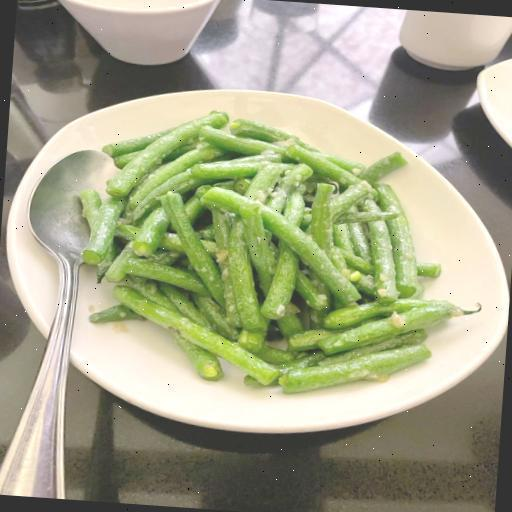buncis_rebus: (76, 91, 504, 403)
